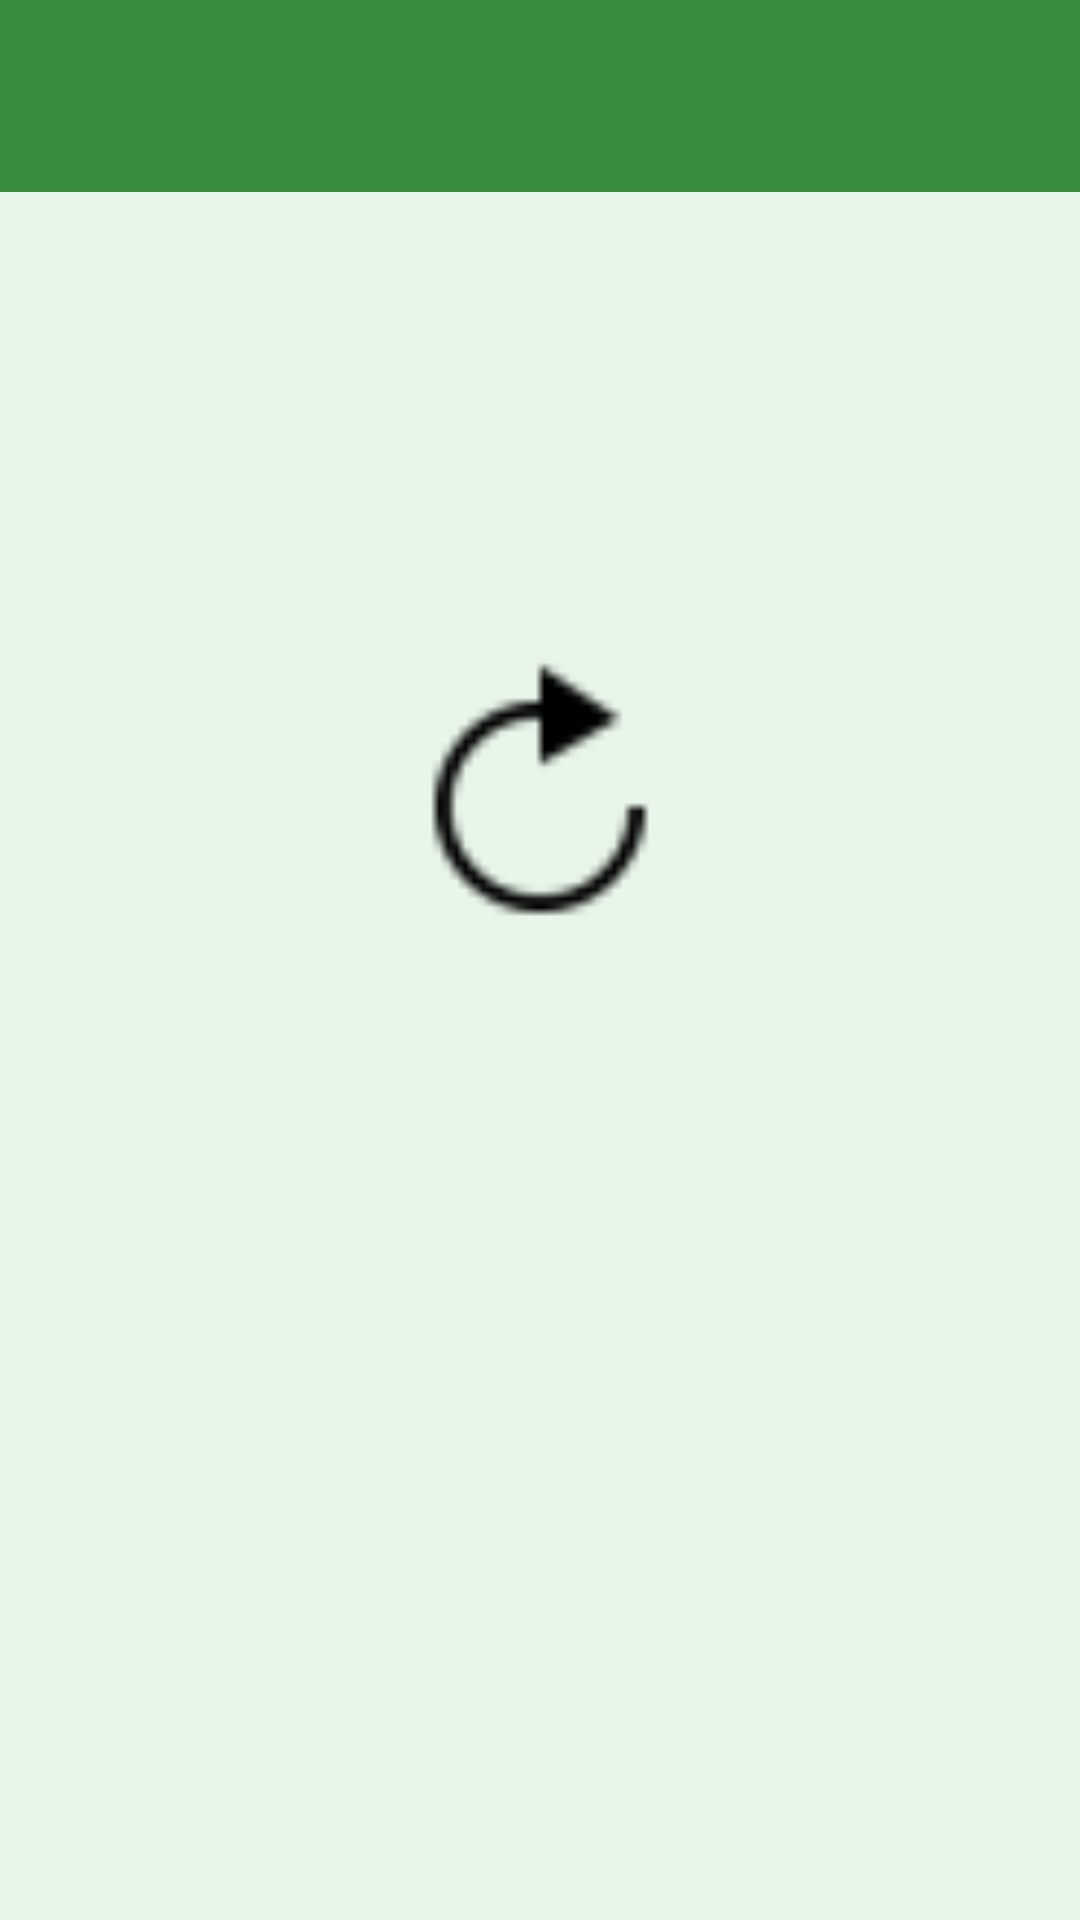

Locate icon controls on the screen. Image size 1080px×1920px, boxes as (x1, y1, x2, y2).
load: (432, 663, 648, 915)
